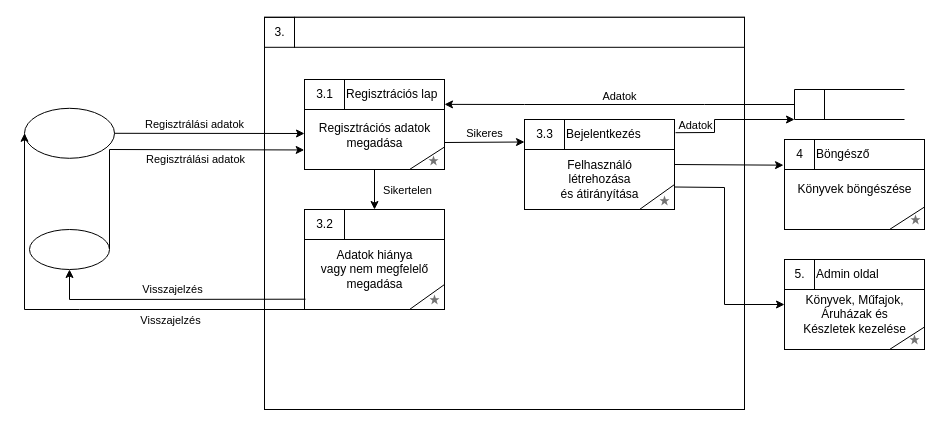
Image size: 943x428. Some labels were removed from this diagram. Each missing label, with the centre of its shape:
"Admin" belongs at [69,249].
"D2 Felhasználók" belongs at [849,104].
"Hibaüzenet" belongs at [394,224].
"Látogató" belongs at [69,132].
"Regisztrációs oldal" belongs at [519,31].
